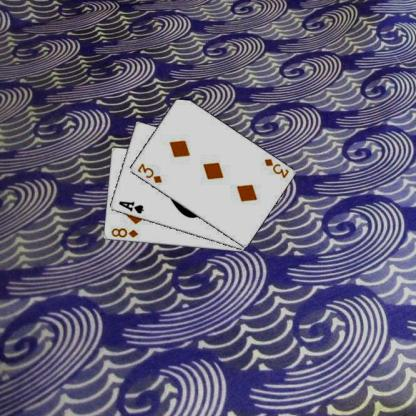3D: (134, 161, 163, 184), (262, 156, 290, 179)
8D: (109, 226, 139, 238)
AS: (116, 199, 144, 215)
